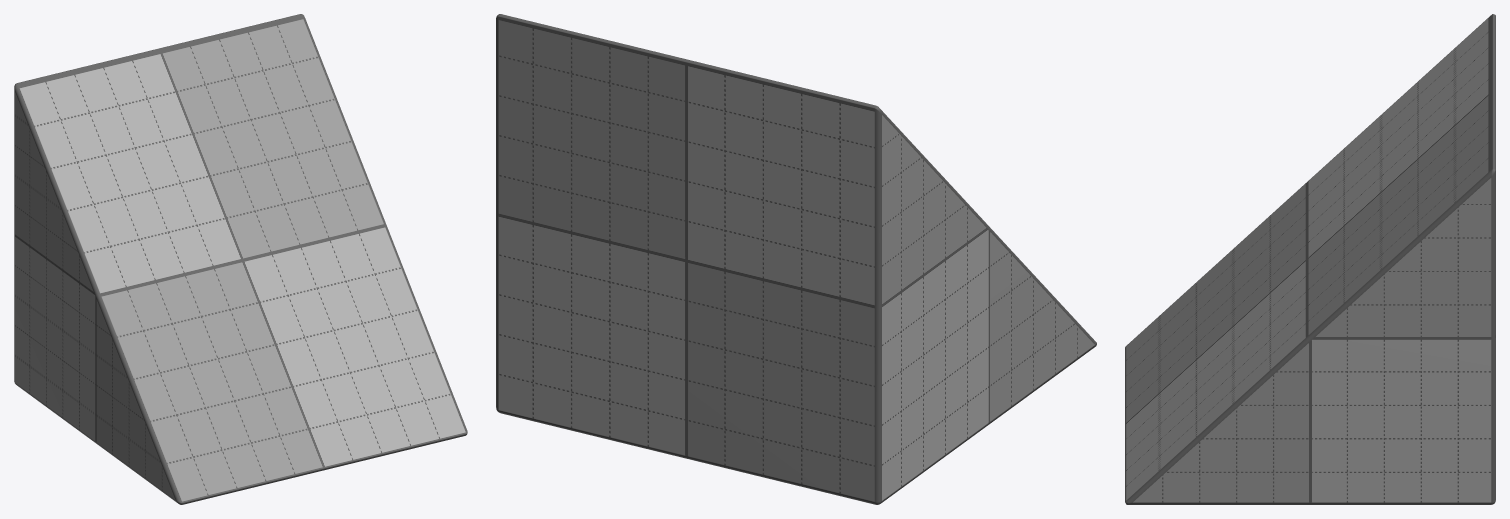
The model's file is Ramp1x1x1.fbx.
The picture shows the model from 3 angles, left to right: view 1: azimuth 30°, elevation 25°; view 2: azimuth 150°, elevation 25°; view 3: azimuth 270°, elevation 25°; orthographic projection. The views are drawn at different scales.
Parts seen in each view (by area): view 1: Ramp1x1x1; view 2: Ramp1x1x1; view 3: Ramp1x1x1.
Boxes of the visible parts, bbox=[...] form: Ramp1x1x1: bbox=[14, 14, 467, 504]; Ramp1x1x1: bbox=[496, 14, 1096, 504]; Ramp1x1x1: bbox=[1125, 14, 1495, 504].
Size of the model in its own units: 100 by 99.12 by 99.12.
